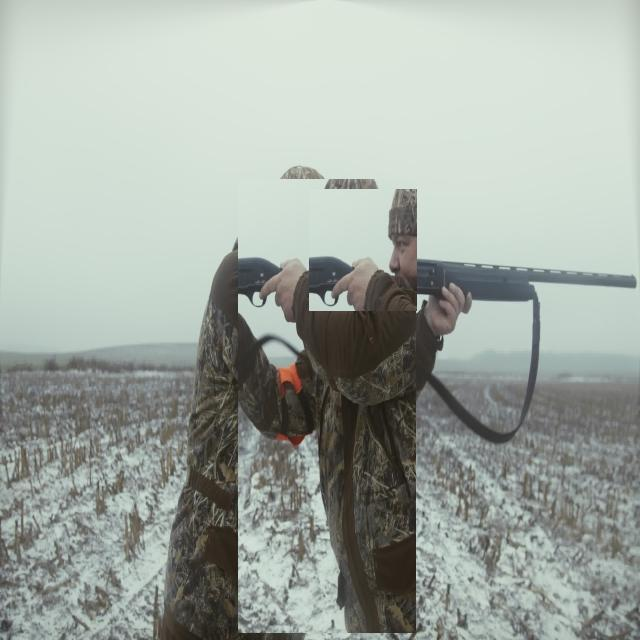poacher: (238, 179, 416, 633)
weapon: (309, 190, 417, 312)
